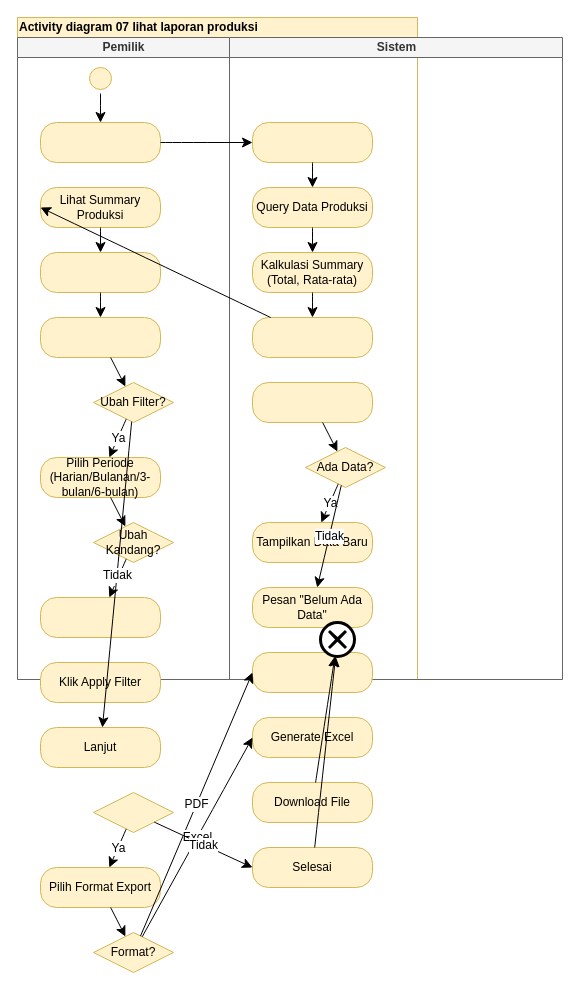
Image size: 580x990. Some labels were removed from this diagram. The shapes that lost their labels are listed below. From the top down, each one's centre as x and y in pixels, then its label:
At [100,142]: "Buka Laporan Produksi".
At [312,142]: "Load Data Default (Bulan Ini)".
At [100,272]: "Lihat Tabel Detail".
At [100,337]: "Lihat Grafik Trend".
At [312,337]: "Render Tabel & Grafik".
At [312,402]: "Query Data dengan Filter".
At [100,617]: "Pilih Kandang".
At [312,672]: "Generate PDF".
At [133,812]: "Export?".
